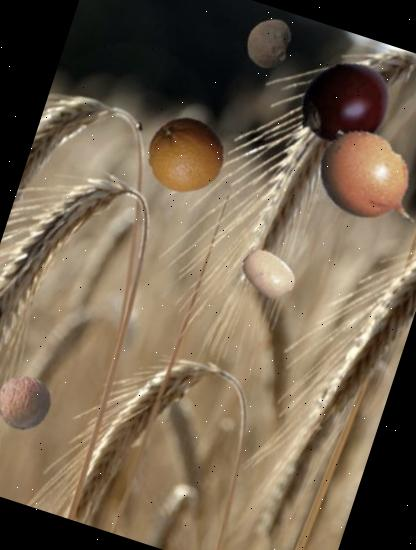Granadilla: (296, 107, 416, 256)
Kumquats: (234, 239, 302, 308)
Orange: (137, 106, 234, 203)
Potato: (235, 9, 302, 76)
Tamarillo: (286, 45, 402, 162)
Walnut: (0, 368, 58, 437)
